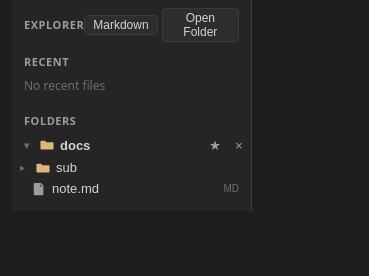
Scenario: Explorer context menu (plan 03 task 3.6, issue #44) › Reveal outside the desktop app reports an error instead of failing silently
The width and height of the screenshot is (369, 276).
Right-click the button "note.md md".
right_click(132, 188)  # box [12, 178, 251, 199]
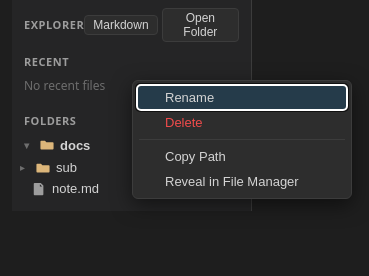
Click the menu item "Reveal in File Manager".
click(242, 182)  # box [137, 169, 347, 194]
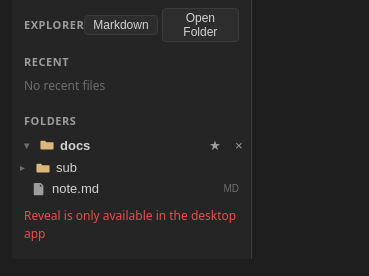
Expected: the text "Reveal is only available in the desktop app" is shown, [12, 203, 251, 247]
